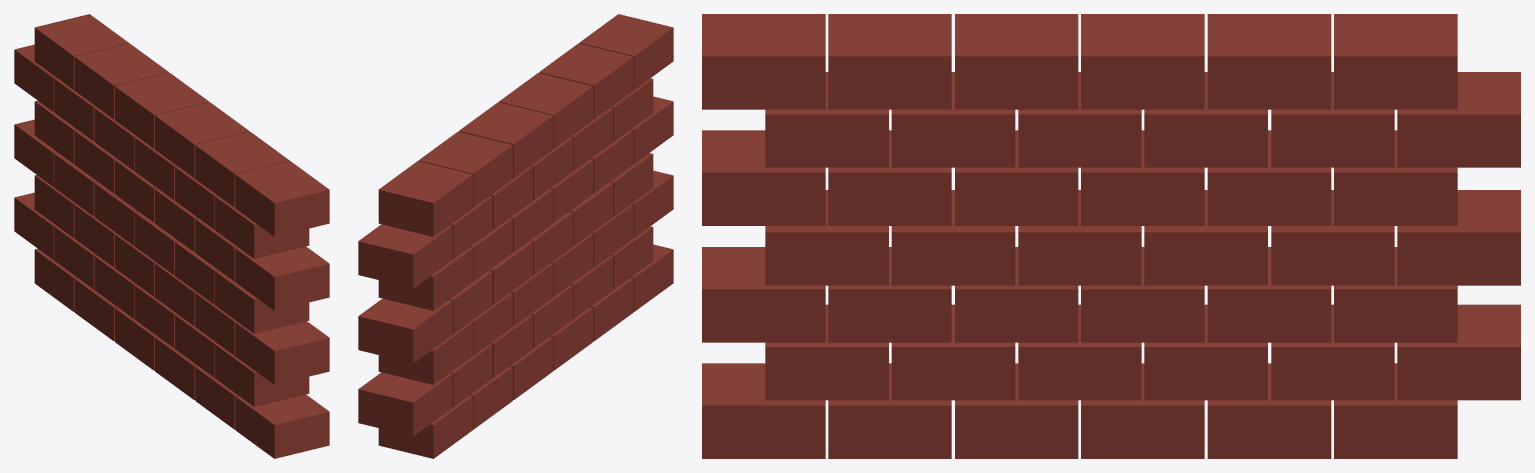
File: brick_wall.fbx
3 views of the same model, side by side, from view 1: azimuth 30°, elevation 25°; view 2: azimuth 150°, elevation 25°; view 3: azimuth 270°, elevation 25° (orthographic). The views are drawn at different scales.
Visible parts, largest first — view 1: Cube.058; view 2: Cube.058; view 3: Cube.058.
Boxes of the visible parts, x1,y1,x2,y2 form: Cube.058: (14,14,329,458); Cube.058: (358,14,673,458); Cube.058: (702,14,1520,458).
Size of the model in its own units: 63.47 by 282 by 519.
42 materials, 42 textured.
